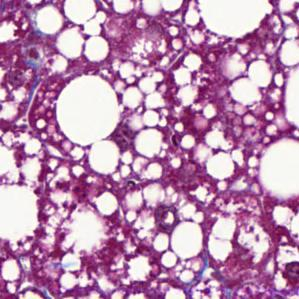steatosis: (60, 76, 122, 147), (205, 153, 236, 180)
